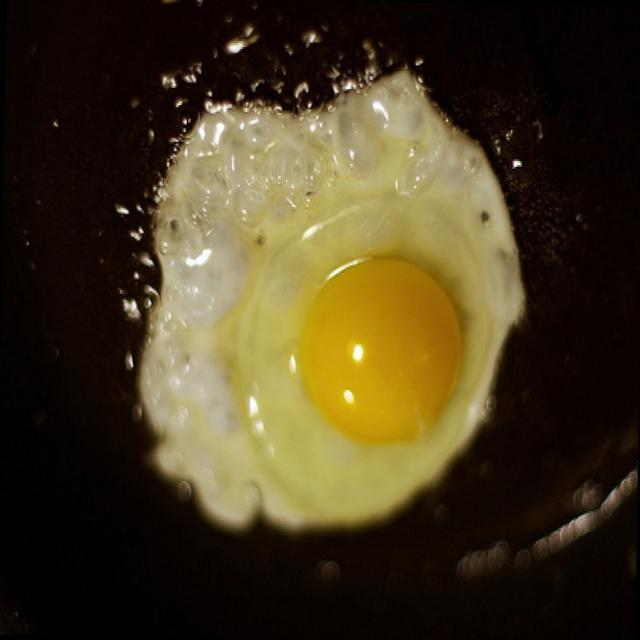Egg: (132, 71, 530, 550)
